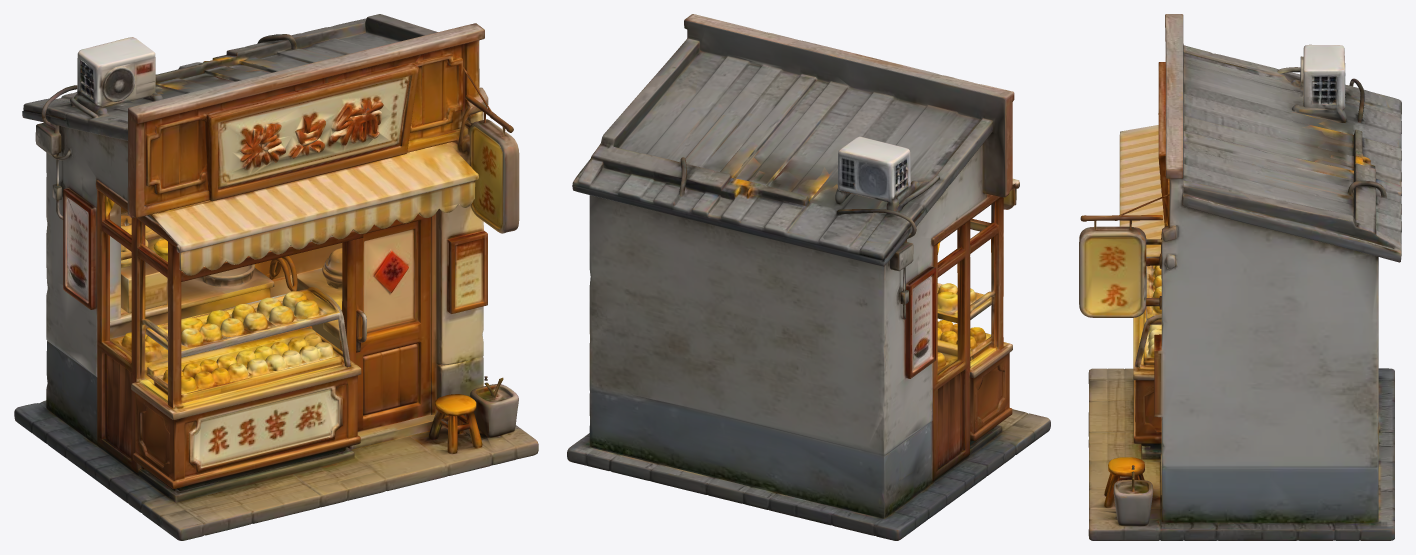
File: gaodianpu.glb
3 renders of one model, left to right at view 1: azimuth 30°, elevation 25°; view 2: azimuth 150°, elevation 25°; view 3: azimuth 270°, elevation 25°, orthographic. The views are drawn at different scales.
Visible parts, largest first — view 1: node_0; view 2: node_0; view 3: node_0.
Boxes of the visible parts, x1=… form: node_0: x1=14, y1=14, x2=538, y2=540; node_0: x1=567, y1=14, x2=1050, y2=540; node_0: x1=1079, y1=14, x2=1401, y2=540.
Bounding box in the file's own units: 0.7286 × 0.7661 × 0.6133.
Materials: 1 (1 with a texture image).
